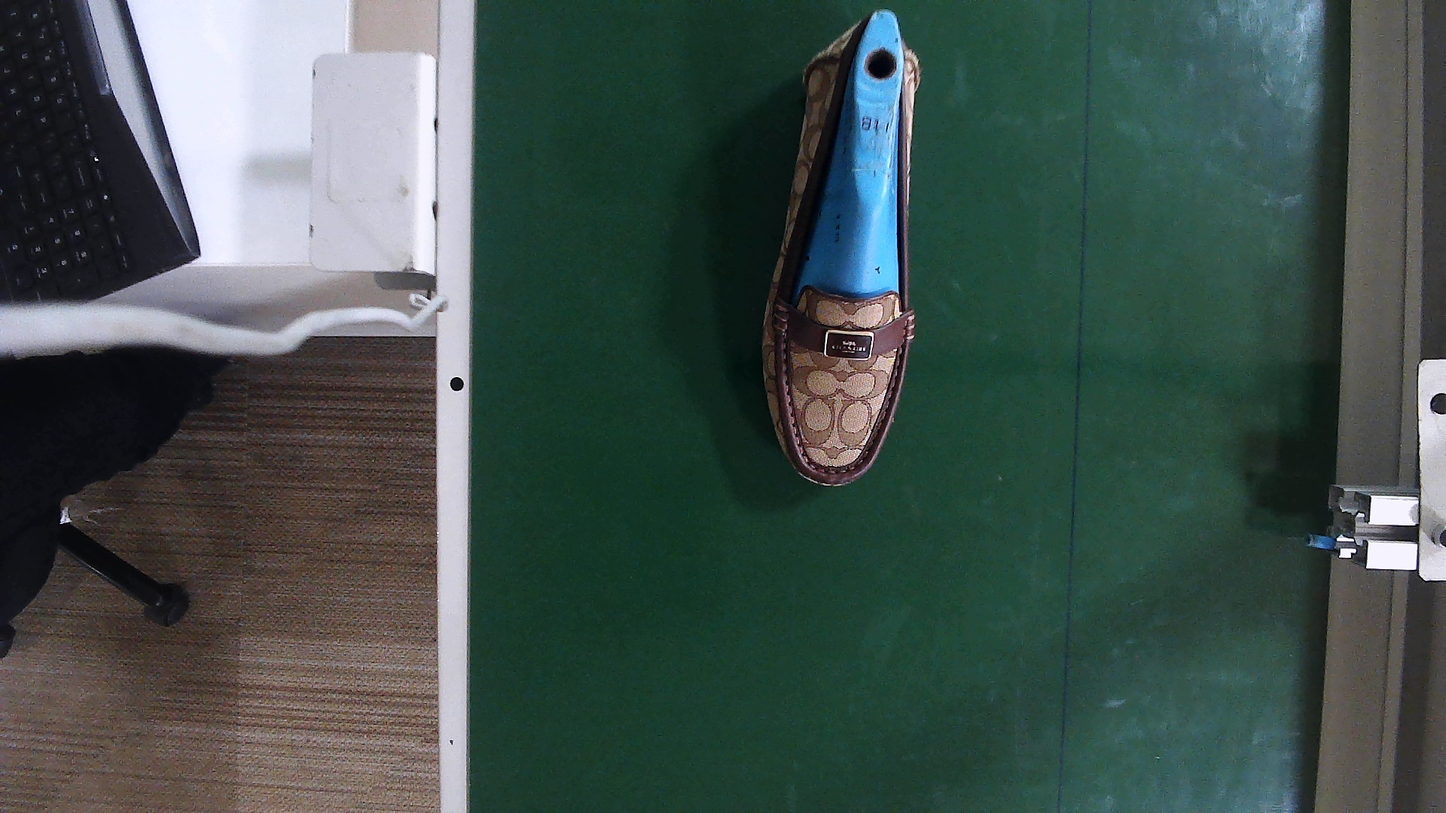shoe: (768, 12, 920, 486)
